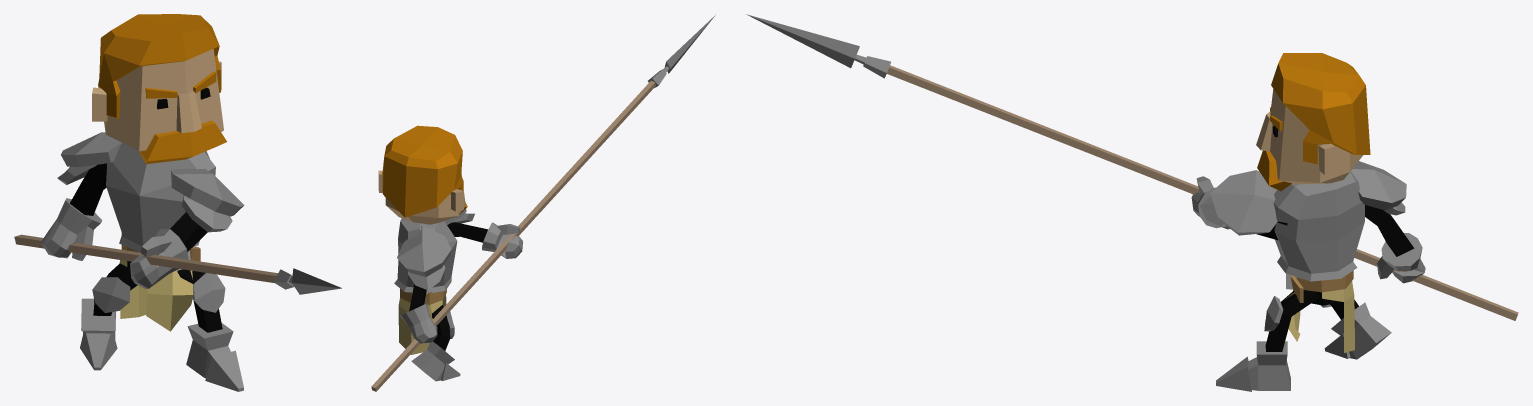
3 renders of one model, left to right at view 1: azimuth 30°, elevation 25°; view 2: azimuth 150°, elevation 25°; view 3: azimuth 270°, elevation 25°, orthographic. The views are drawn at different scales.
Parts seen in each view (by area): view 1: Soldier_30; view 2: Soldier_30; view 3: Soldier_30.
Part boxes in pixels (left/top/right/bottom): Soldier_30: left=14, top=14, right=341, bottom=391; Soldier_30: left=371, top=15, right=715, bottom=391; Soldier_30: left=746, top=14, right=1518, bottom=391.
Size of the model in its own units: 0.932 by 1.56 by 3.49.
9 materials, 1 textured.
